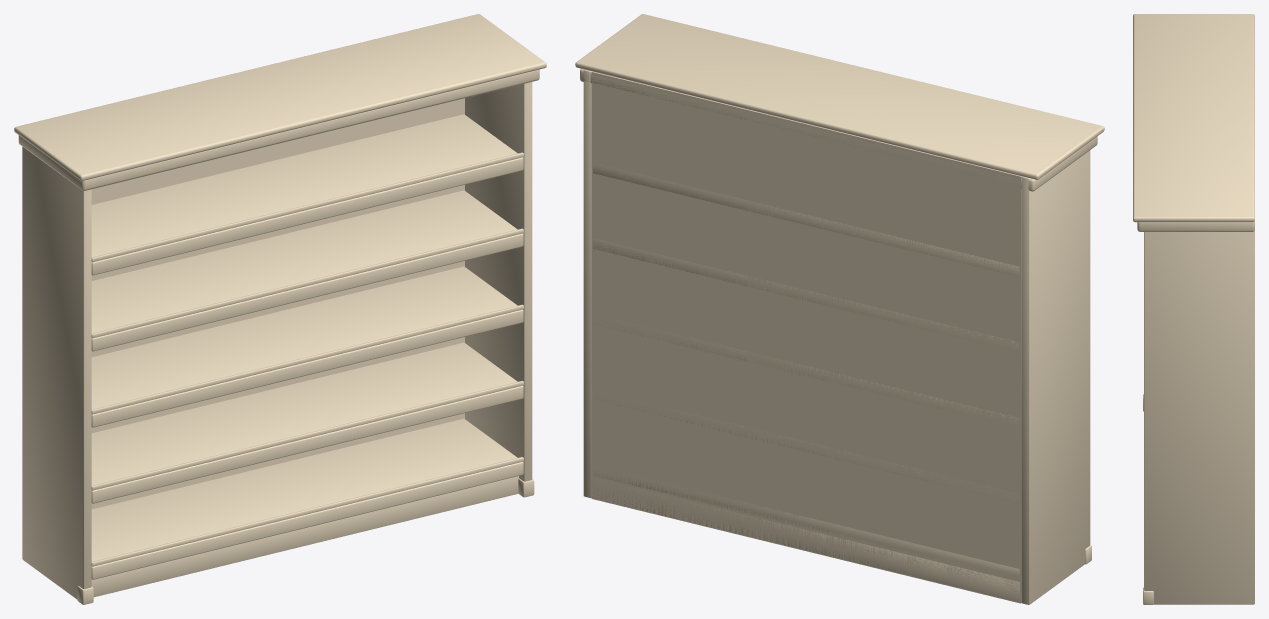
The model's file is shelf_5x210x50.glb.
The picture shows the model from 3 angles, left to right: view 1: azimuth 30°, elevation 25°; view 2: azimuth 150°, elevation 25°; view 3: azimuth 270°, elevation 25°; orthographic projection. The views are drawn at different scales.
Parts seen in each view (by area): view 1: shelf_5x210x50; view 2: shelf_5x210x50; view 3: shelf_5x210x50.
Part boxes in pixels (<box>): shelf_5x210x50: <box>14,14,546,604</box>; shelf_5x210x50: <box>575,14,1104,604</box>; shelf_5x210x50: <box>1133,14,1254,604</box>.
Size of the model in its own units: 2.18 by 1.95 by 0.55.
